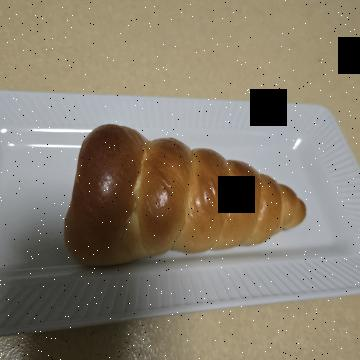cream horn: (119, 39, 295, 308)
